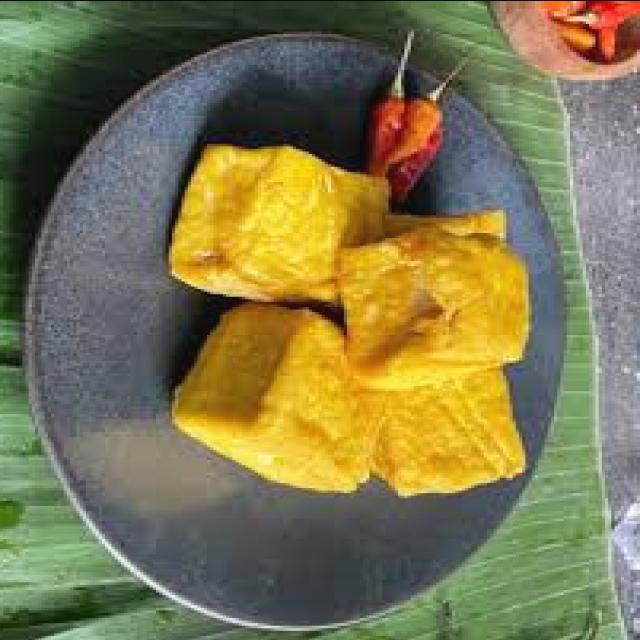tahu goreng: (169, 298, 388, 495), (169, 143, 388, 301), (338, 209, 529, 385)
